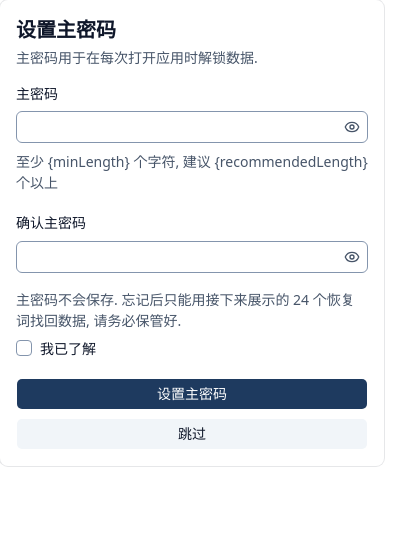
Test: OnboardingScreen 设置主密码 › 主进程报告意外失败时在顶部提示条显示
The width and height of the screenshot is (402, 542).
In the password field labelled "主密码": (178, 127) [17, 111, 340, 143], type "long enough 1"
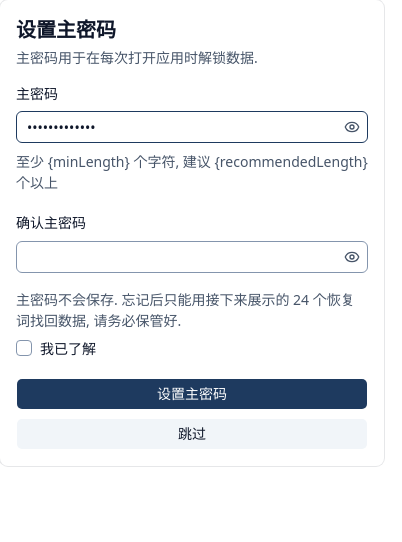
In the password field labelled "确认主密码": (178, 256) [17, 240, 340, 272], type "long enough 1"
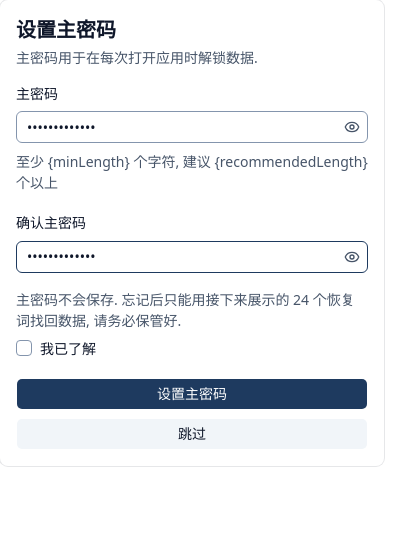
Click the checkbox named "我已了解": (24, 348) [16, 340, 32, 356]
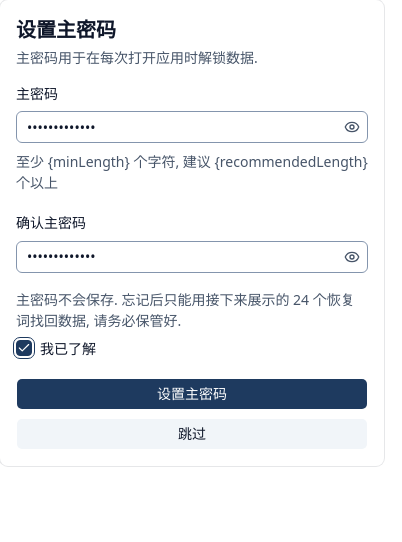
Click the button "设置主密码": (192, 394) [16, 378, 368, 410]
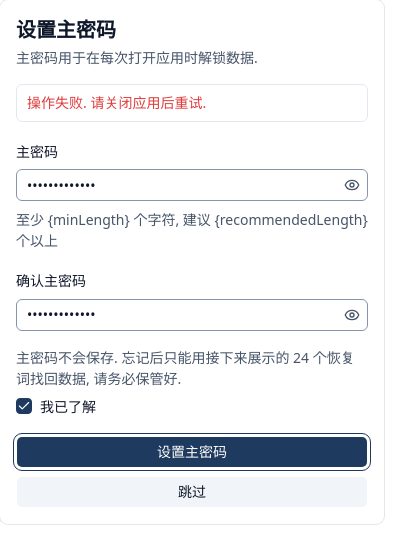
expect the message reads "操作失败. 请关闭应用后重试.": met, box [27, 93, 206, 112]
